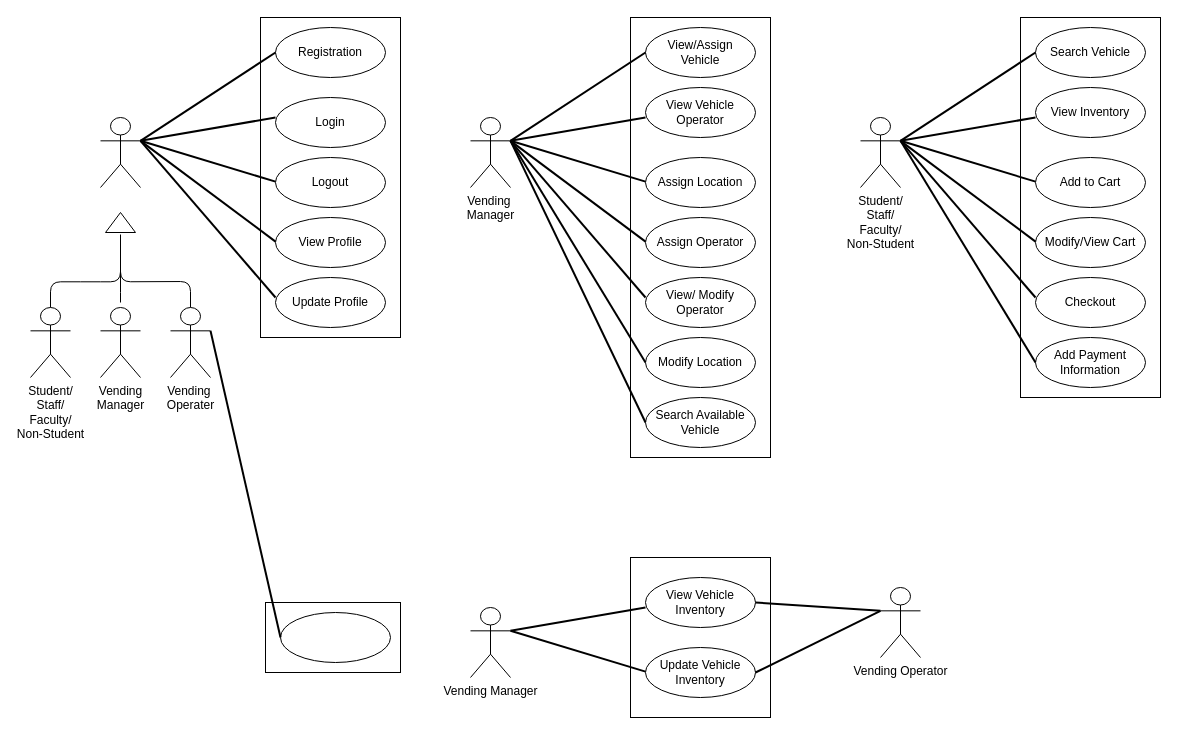
The diagram is 1178 pixels wide and 735 high, and some of its shapes have lost their labels. The shapes that lost their labels are listed below. From the top down, each one's centre as x and y in pixels, then its label:
the point at 120,152: System User
the point at 335,637: View Location/ Schedule
